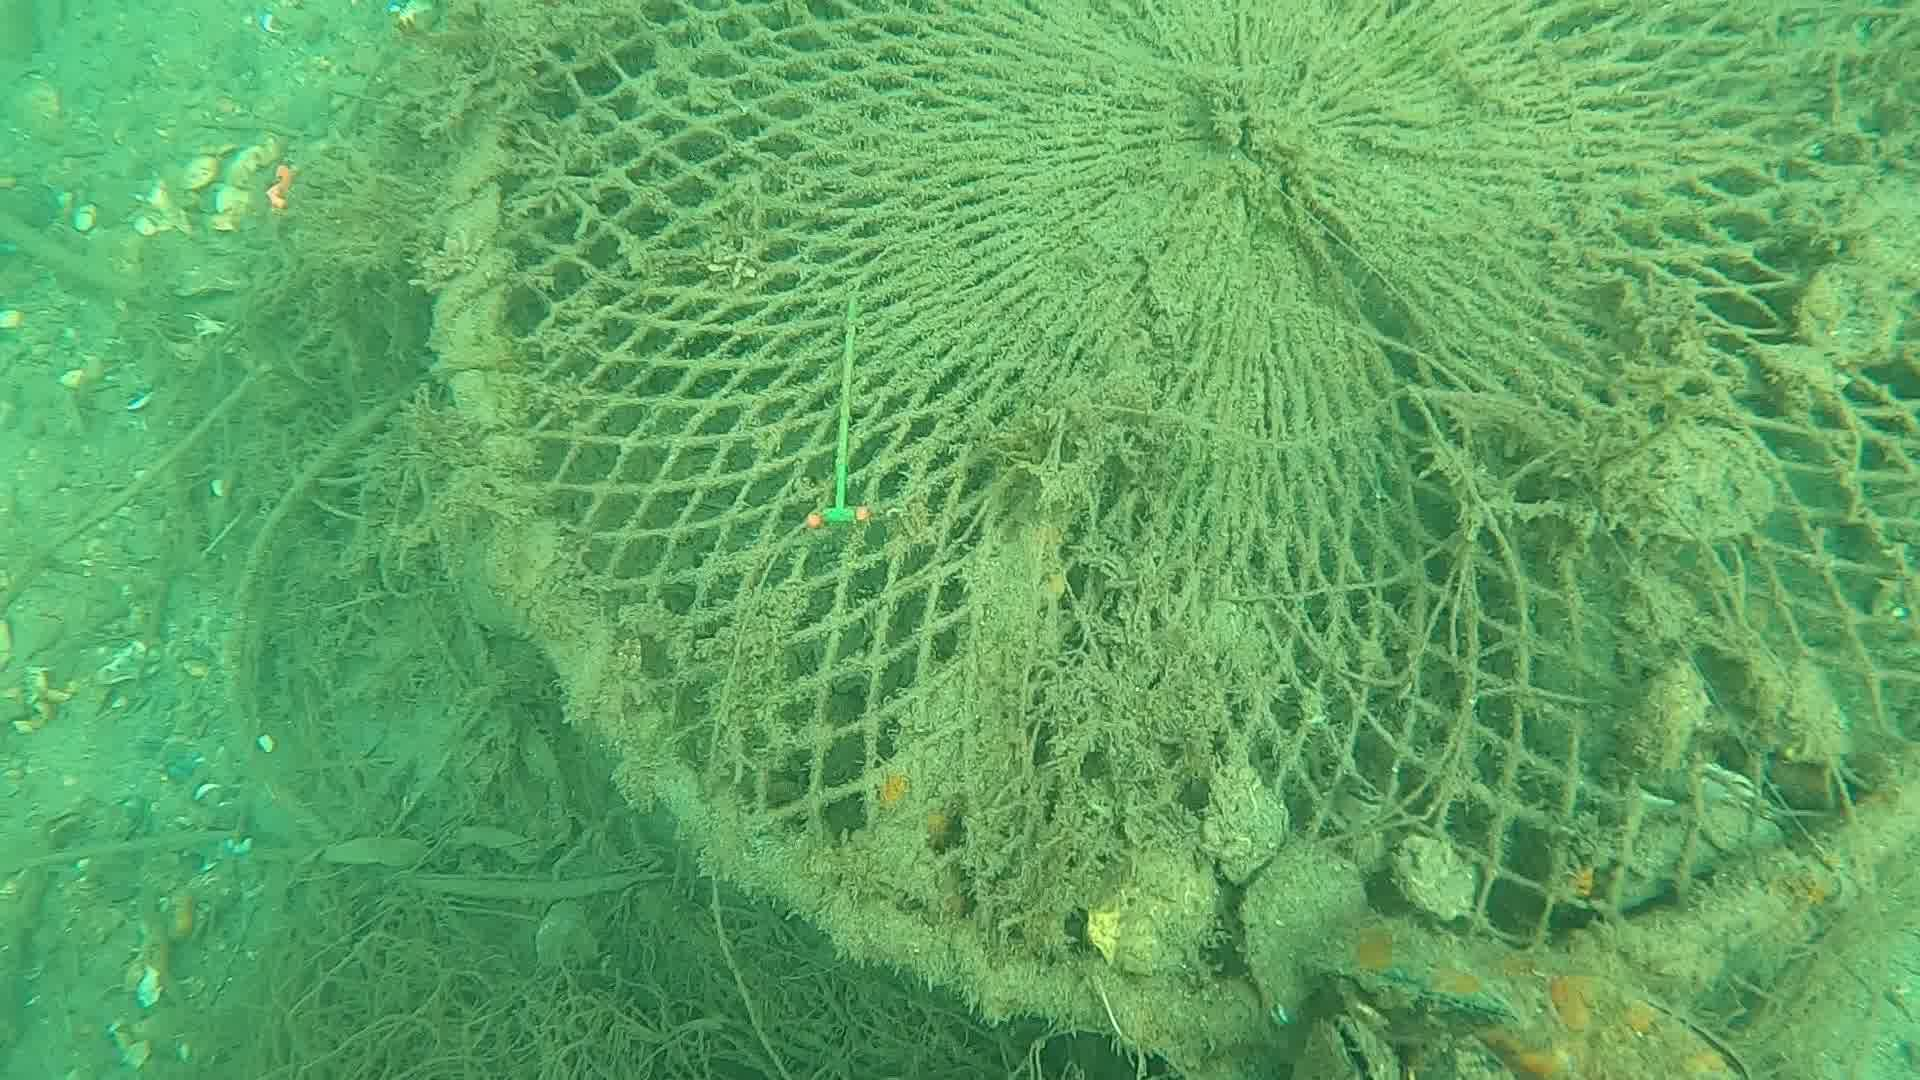circular fish trap: (426, 0, 1920, 1080)
